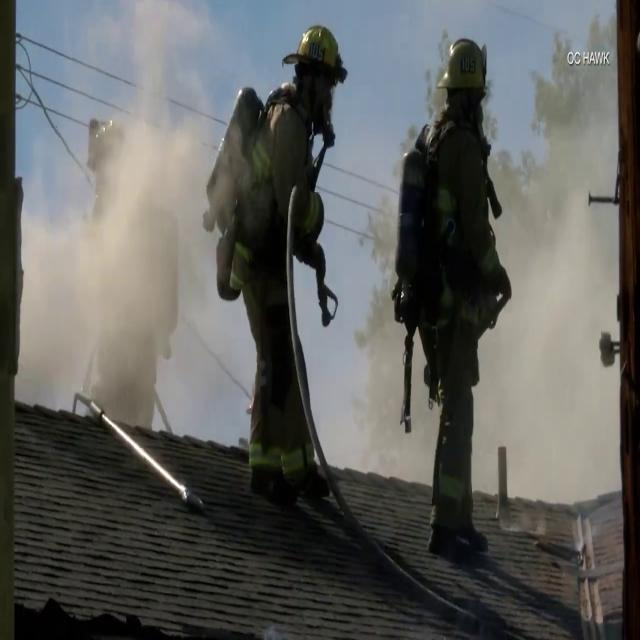Smoke: (23, 34, 244, 430), (468, 0, 635, 474)
